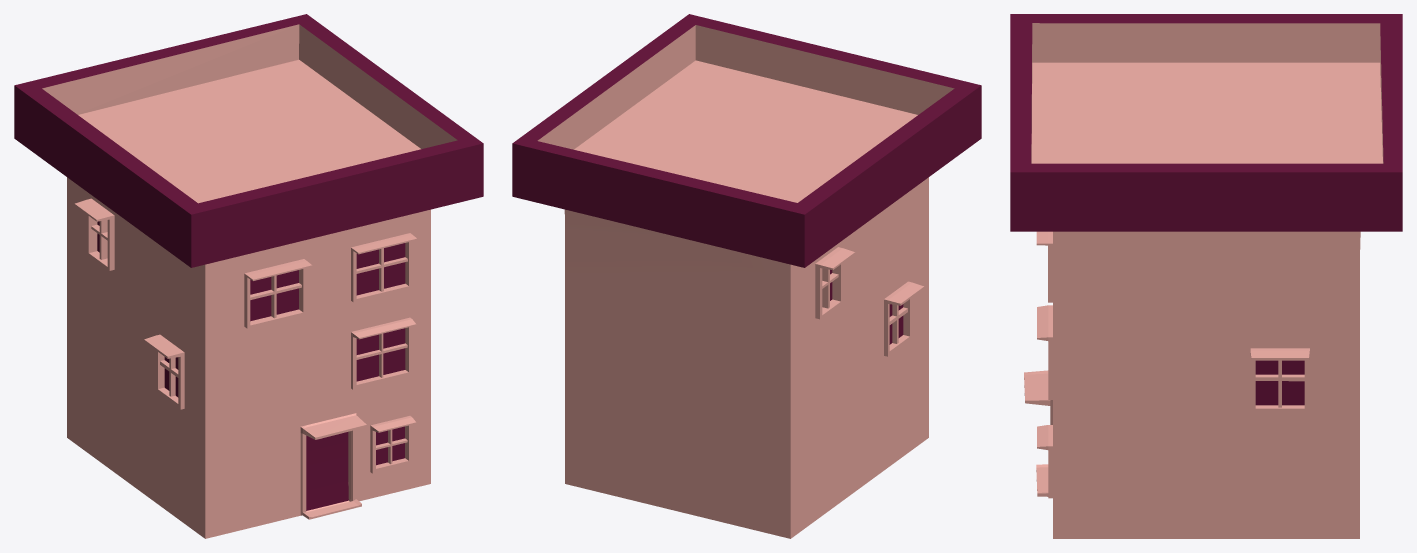
Rendered from Sunset_House.FBX.
The picture shows the model from 3 angles, left to right: view 1: azimuth 30°, elevation 25°; view 2: azimuth 150°, elevation 25°; view 3: azimuth 270°, elevation 25°; orthographic projection. The views are drawn at different scales.
Visible parts, largest first — view 1: Sunset_House; view 2: Sunset_House; view 3: Sunset_House.
Boxes of the visible parts, box(x1,y1,x2,y2) form: Sunset_House: box(14, 14, 483, 538); Sunset_House: box(512, 14, 981, 538); Sunset_House: box(1010, 14, 1402, 538).
Size of the model in its own units: 373 by 424 by 391.
Materials: 1 (1 with a texture image).
